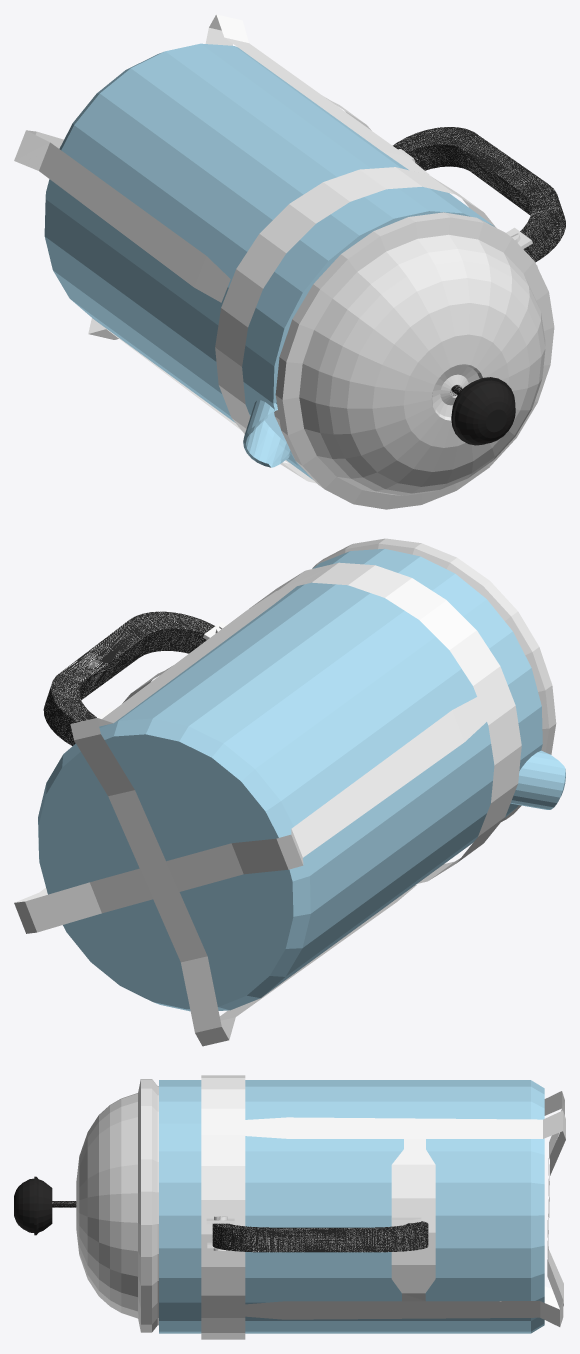
3 views of the same model, one above another, from view 1: azimuth 30°, elevation 25°; view 2: azimuth 150°, elevation 25°; view 3: azimuth 270°, elevation 25° (orthographic). The views are drawn at different scales.
Visible parts, largest first — view 1: french press coffee maker; view 2: french press coffee maker; view 3: french press coffee maker.
Boxes of the visible parts, x1=… form: french press coffee maker: x1=14, y1=14, x2=565, y2=509; french press coffee maker: x1=14, y1=538, x2=565, y2=1046; french press coffee maker: x1=14, y1=1075, x2=565, y2=1339.
Size of the model in its own units: 6.44 by 4.94 by 10.11.
